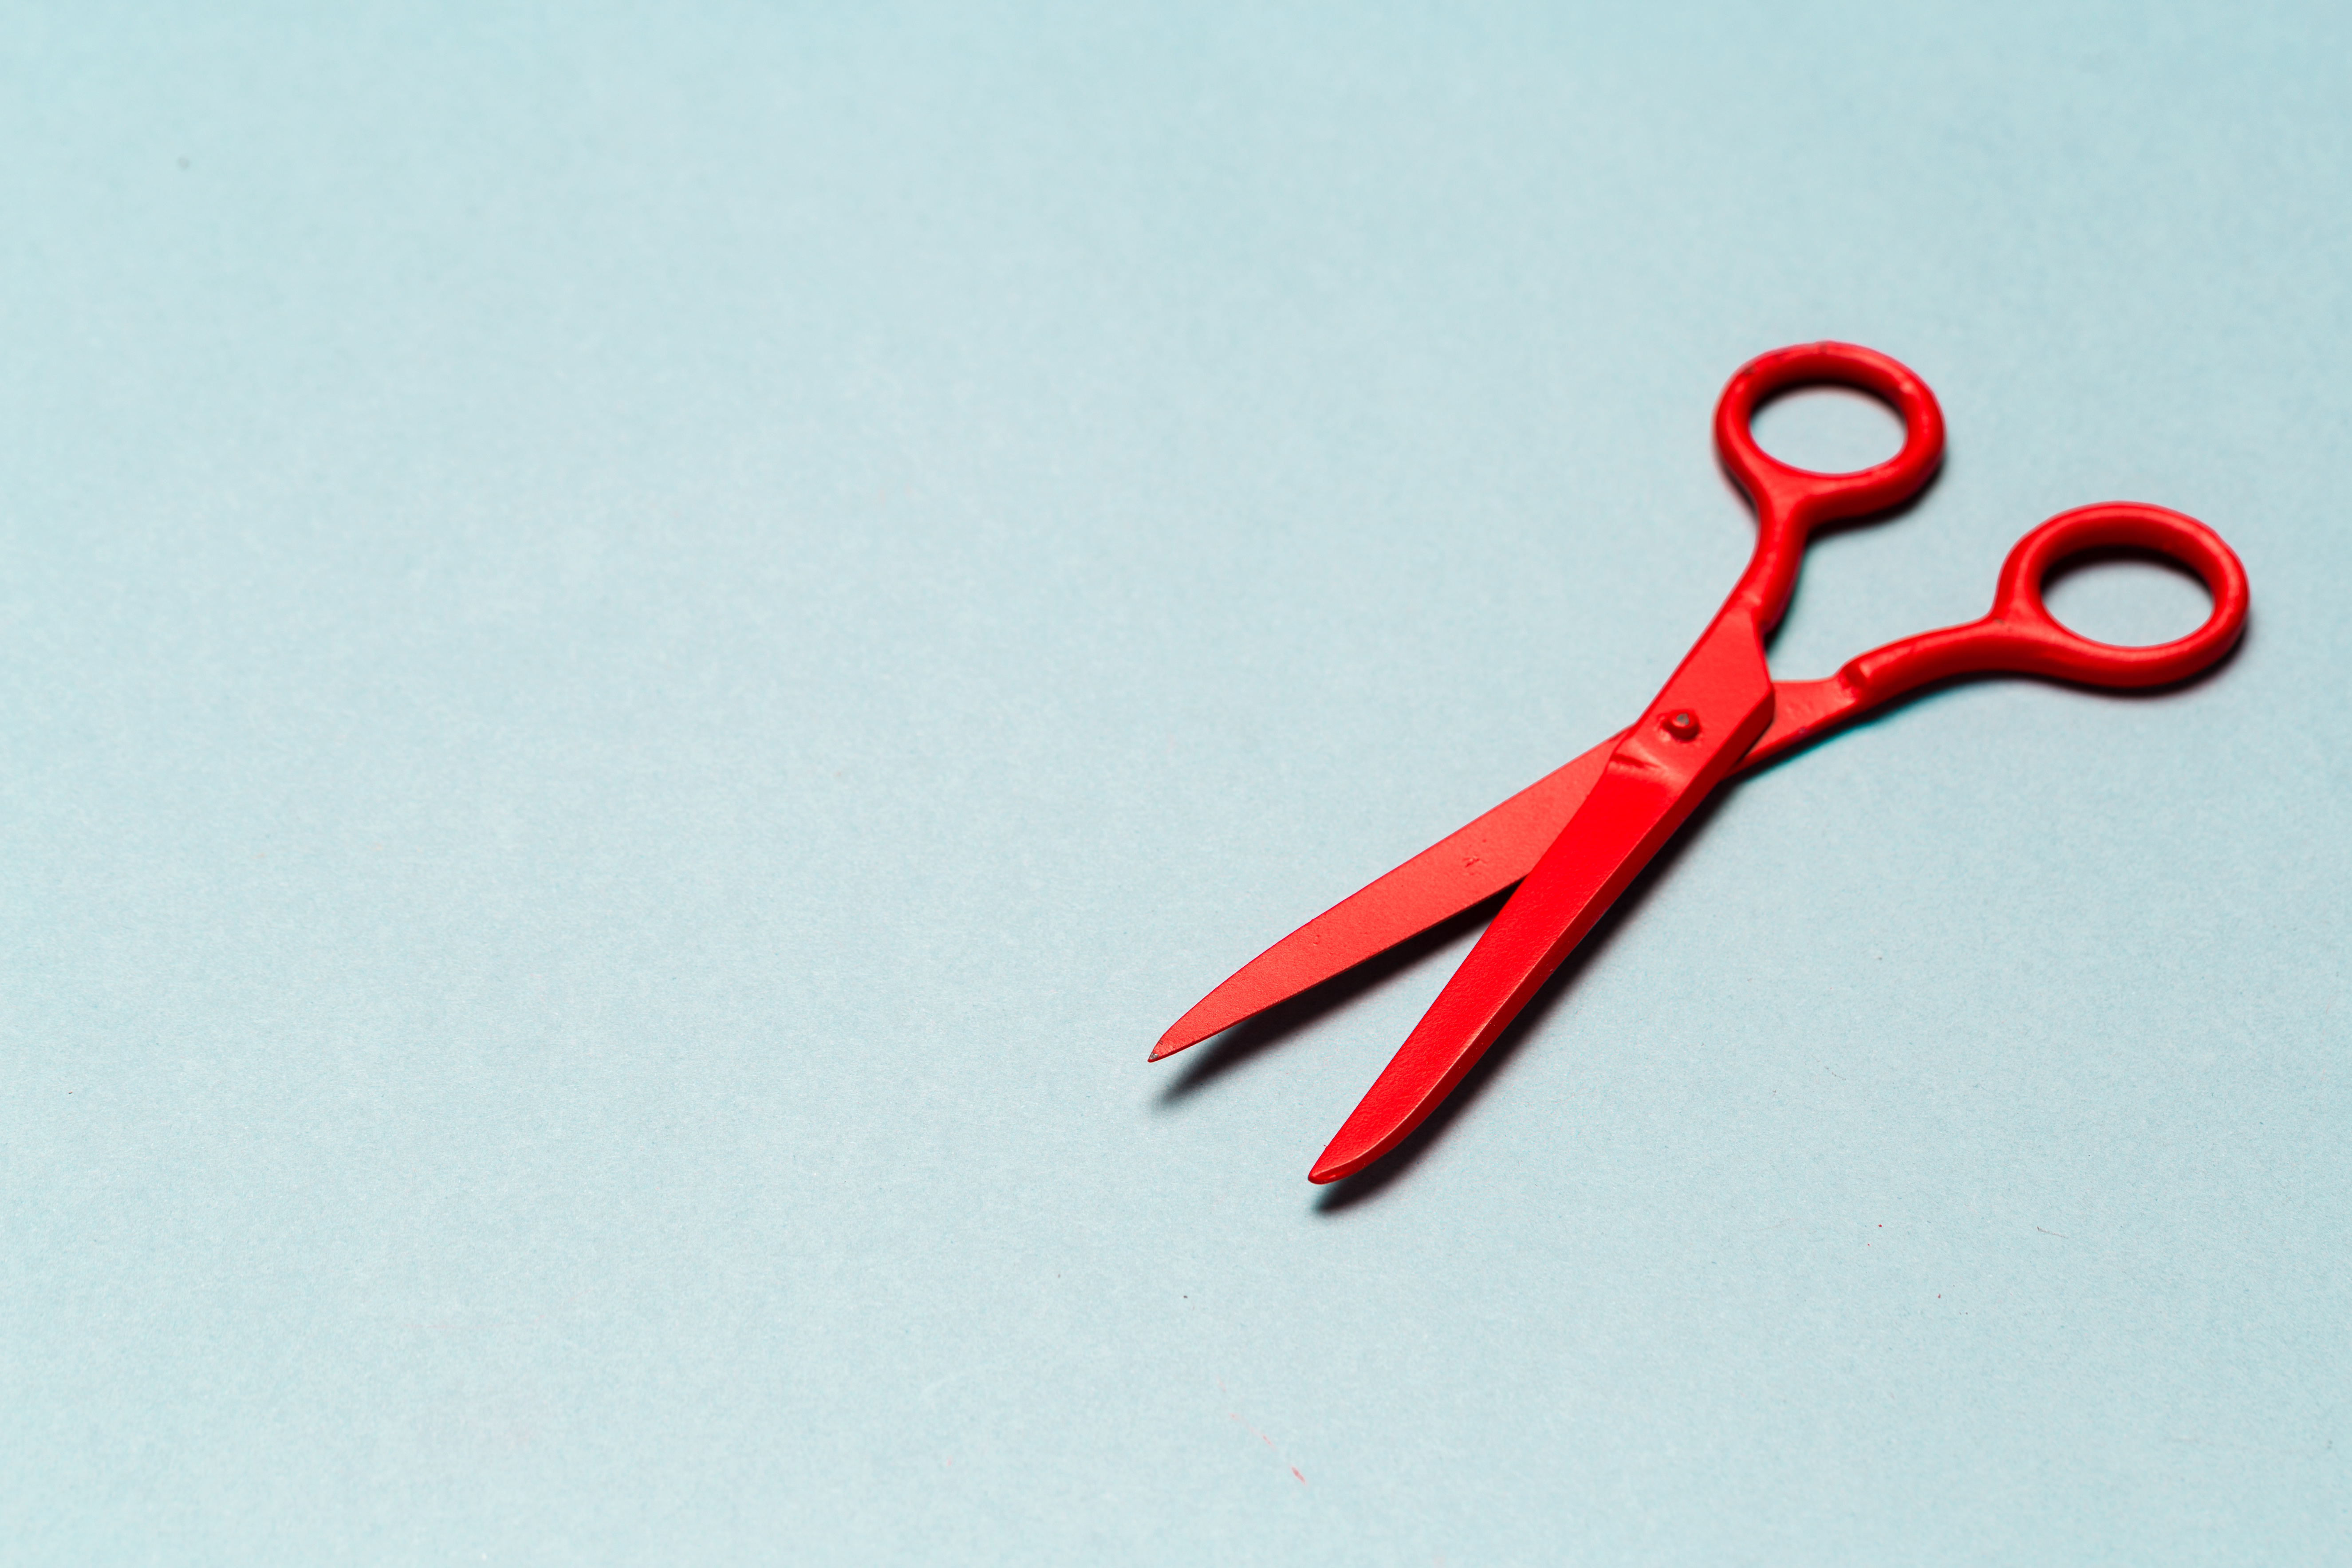scissor: (1133, 335, 2259, 1215)
